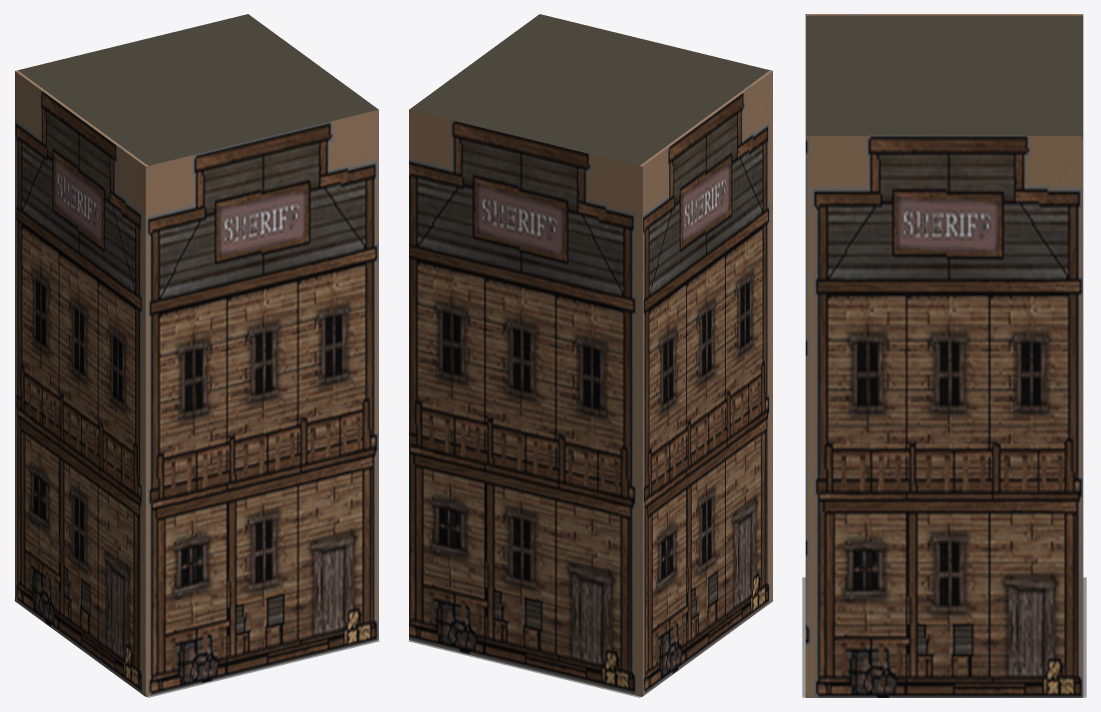
Rendered from wall.obj.
The picture shows the model from 3 angles, left to right: view 1: azimuth 30°, elevation 25°; view 2: azimuth 150°, elevation 25°; view 3: azimuth 270°, elevation 25°; orthographic projection. The views are drawn at different scales.
Parts seen in each view (by area): view 1: Box001; view 2: Box001; view 3: Box001, Plane001.
Part boxes in pixels (x1,y1,x2,y2): Box001: [15, 14, 378, 696]; Box001: [409, 14, 772, 696]; Box001: [805, 14, 1083, 697]; Plane001: [802, 577, 1086, 697].
Bounding box in the file's own units: 14.5 × 31.5 × 14.41.
